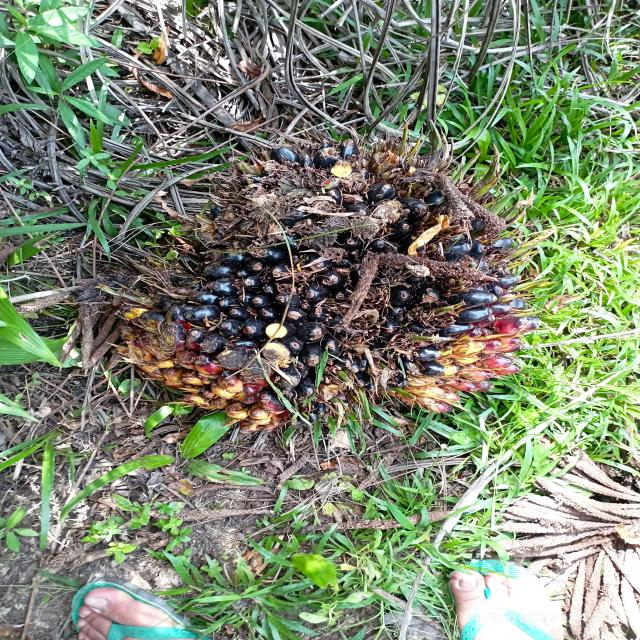fraksi 00: (100, 119, 560, 474)
